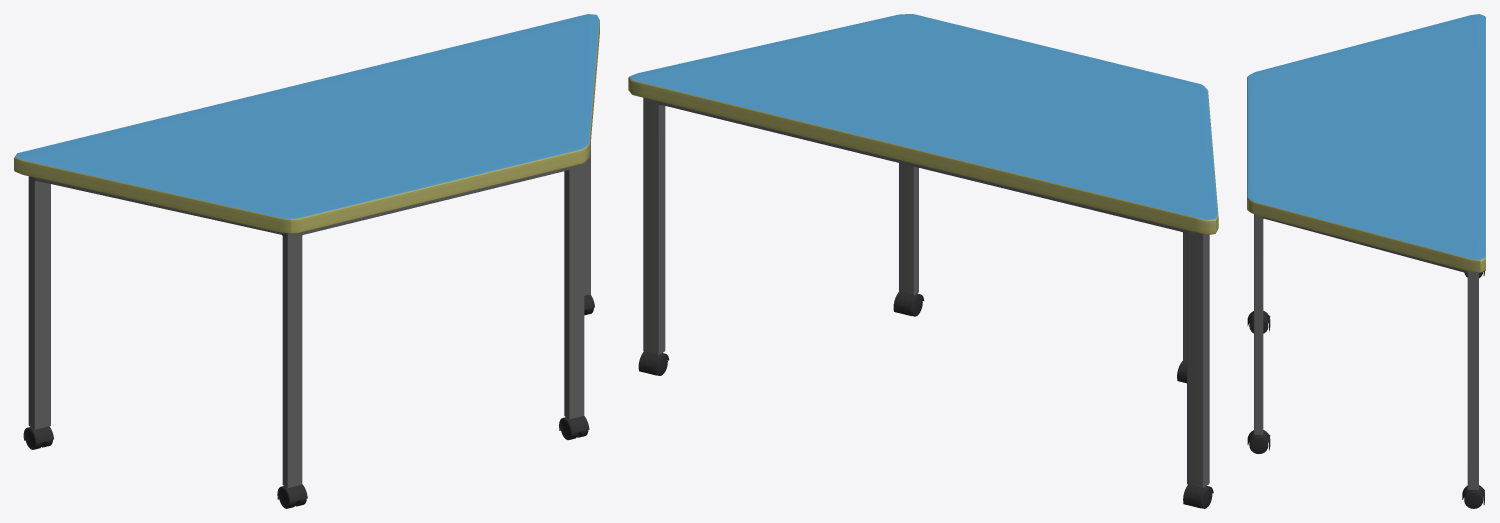
File: stol.fbx
3 views of the same model, side by side, from view 1: azimuth 30°, elevation 25°; view 2: azimuth 150°, elevation 25°; view 3: azimuth 270°, elevation 25° (orthographic). The views are drawn at different scales.
Visible parts, largest first — view 1: top_plane, steel_part; view 2: top_plane, steel_part; view 3: top_plane, steel_part, pCylinder1 (×2).
Boxes of the visible parts, left/top/right/bottom form: top_plane: left=14, top=14, right=599, bottom=233; steel_part: left=28, top=143, right=590, bottom=488; top_plane: left=628, top=14, right=1218, bottom=234; steel_part: left=643, top=97, right=1209, bottom=488; top_plane: left=1247, top=14, right=1485, bottom=272; steel_part: left=1254, top=214, right=1478, bottom=489; pCylinder1 (×2): left=1249, top=437, right=1483, bottom=508.
Bounding box in the file's own units: 19.57 × 9.39 × 8.
